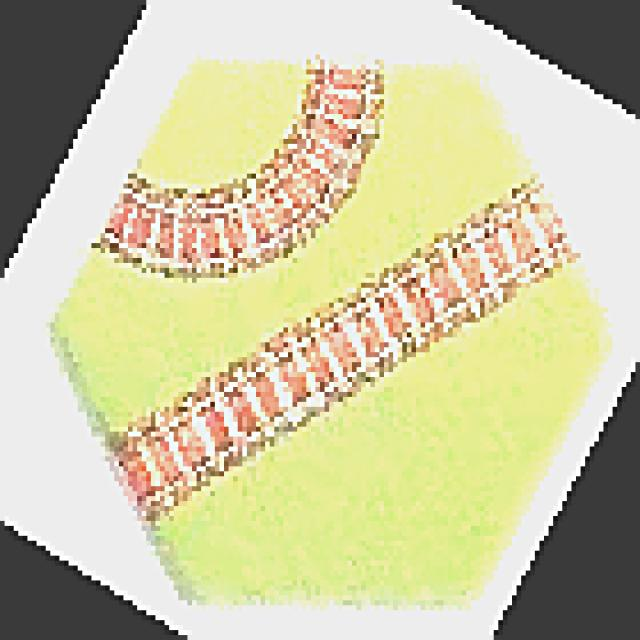4_4: (46, 50, 622, 615)
